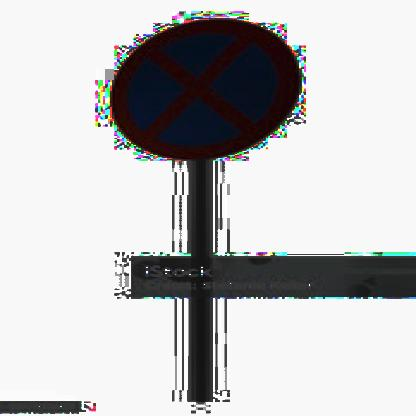No stopping: (106, 16, 296, 163)
